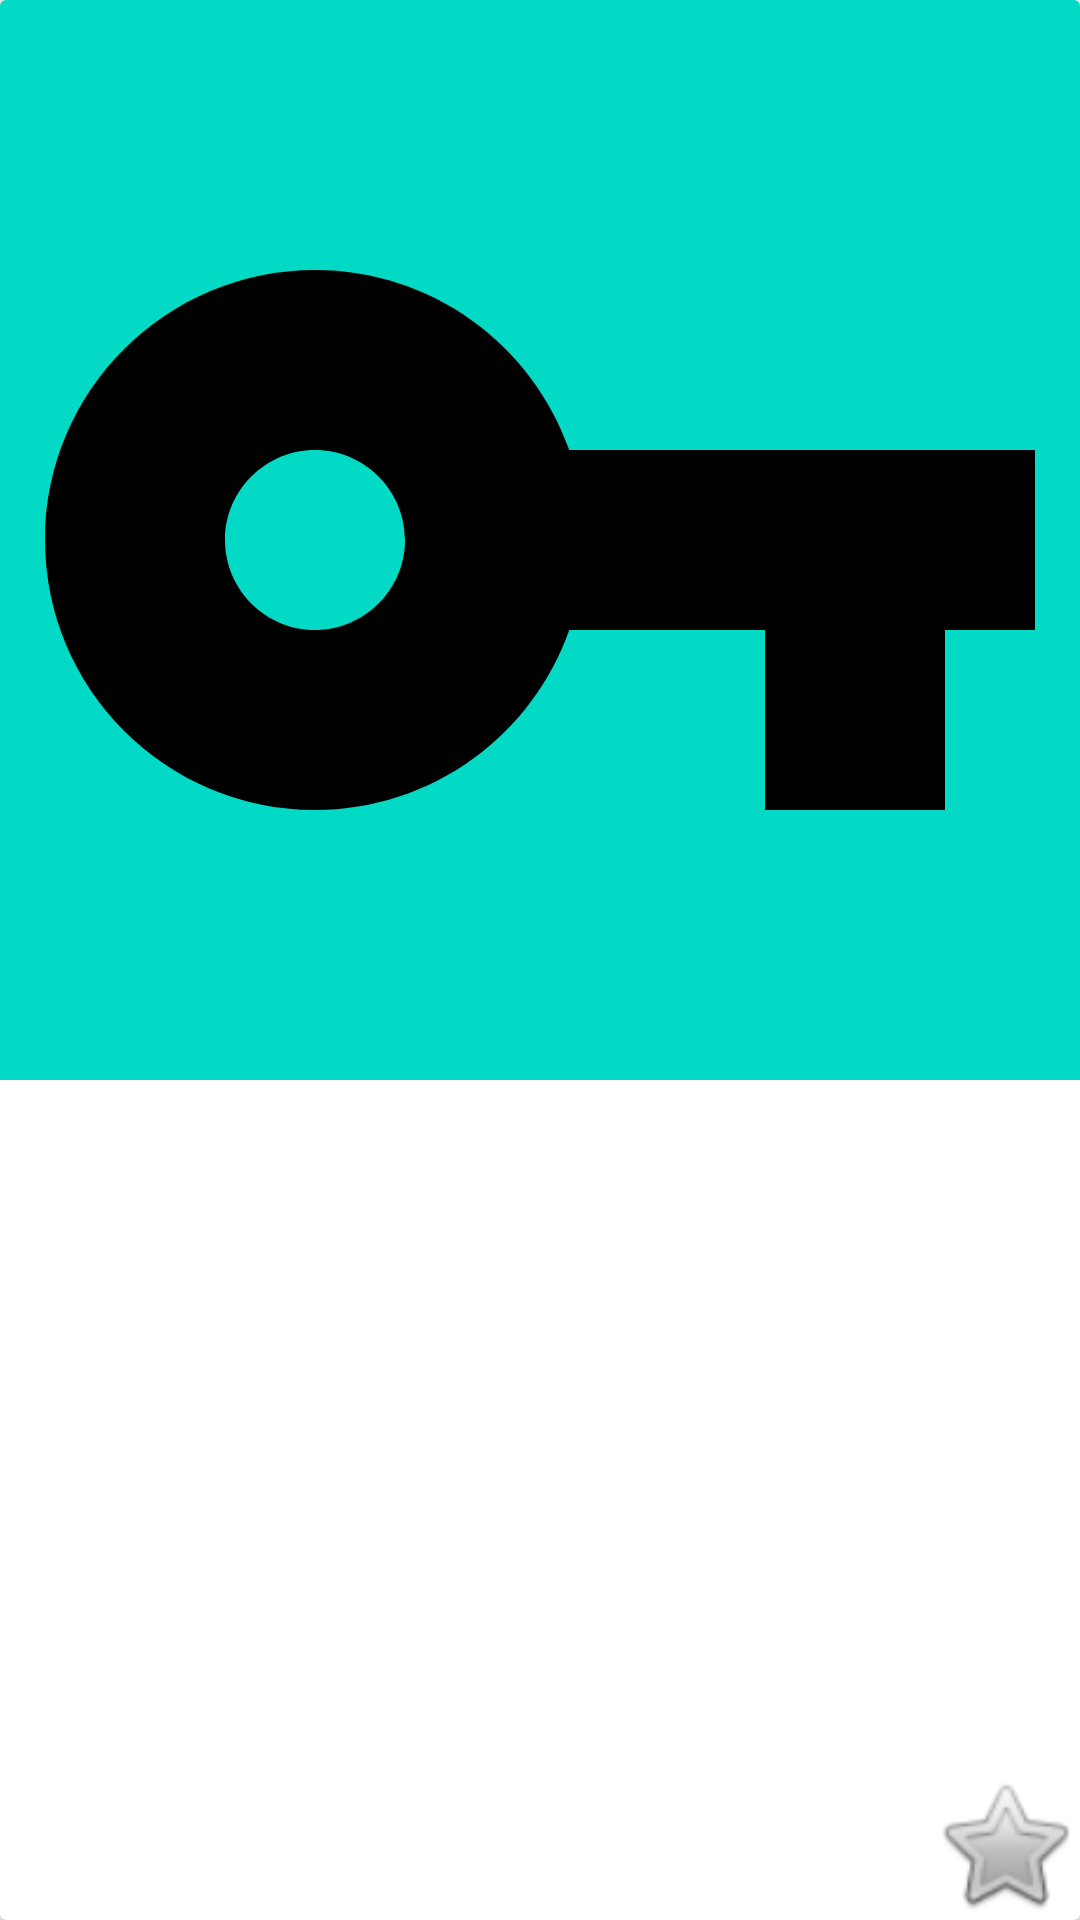

Screen size 1080px x 1920px. Icon name, then its box in pixels as (x1, y1, x2, y2):
star off: (944, 1785, 1080, 1920)
